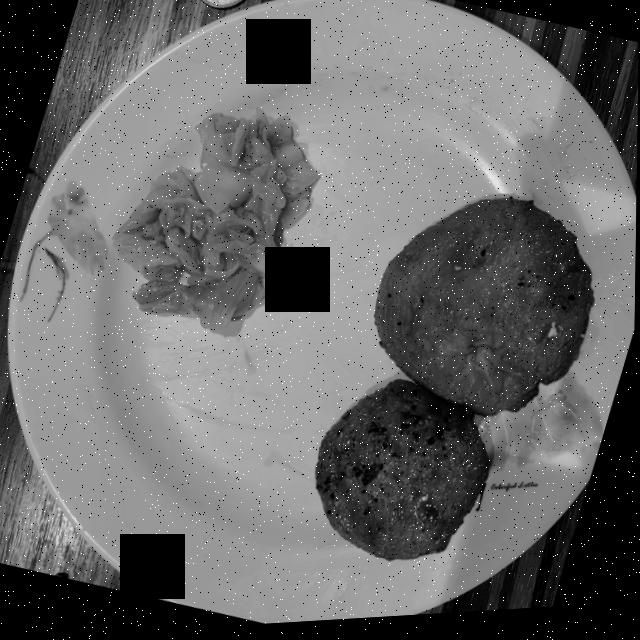cabbage: (113, 111, 319, 333)
coin: (201, 0, 245, 10)
fish cake: (316, 203, 594, 564)
